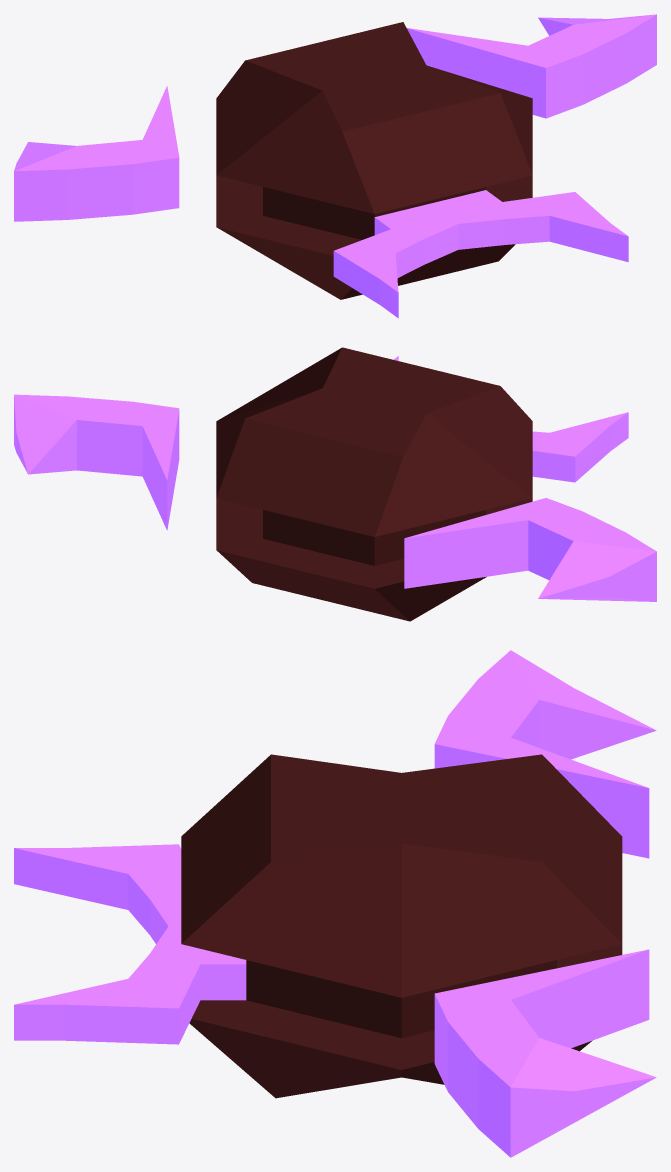
File: enemy_hit_elecMushi.glb
3 views of the same model, one above another, from view 1: azimuth 30°, elevation 25°; view 2: azimuth 150°, elevation 25°; view 3: azimuth 270°, elevation 25° (orthographic). The views are drawn at different scales.
Parts seen in each view (by area): view 1: ElecMusi, WIng; view 2: ElecMusi, WIng; view 3: ElecMusi, WIng.
Boxes of the visible parts, x1,y1,x2,y2 form: ElecMusi: [216, 22, 628, 318]; WIng: [14, 14, 656, 221]; ElecMusi: [216, 347, 628, 621]; WIng: [14, 394, 656, 601]; ElecMusi: [14, 754, 622, 1098]; WIng: [434, 650, 656, 1157].
Size of the model in its own units: 4.06 by 1.02 by 2.53.
